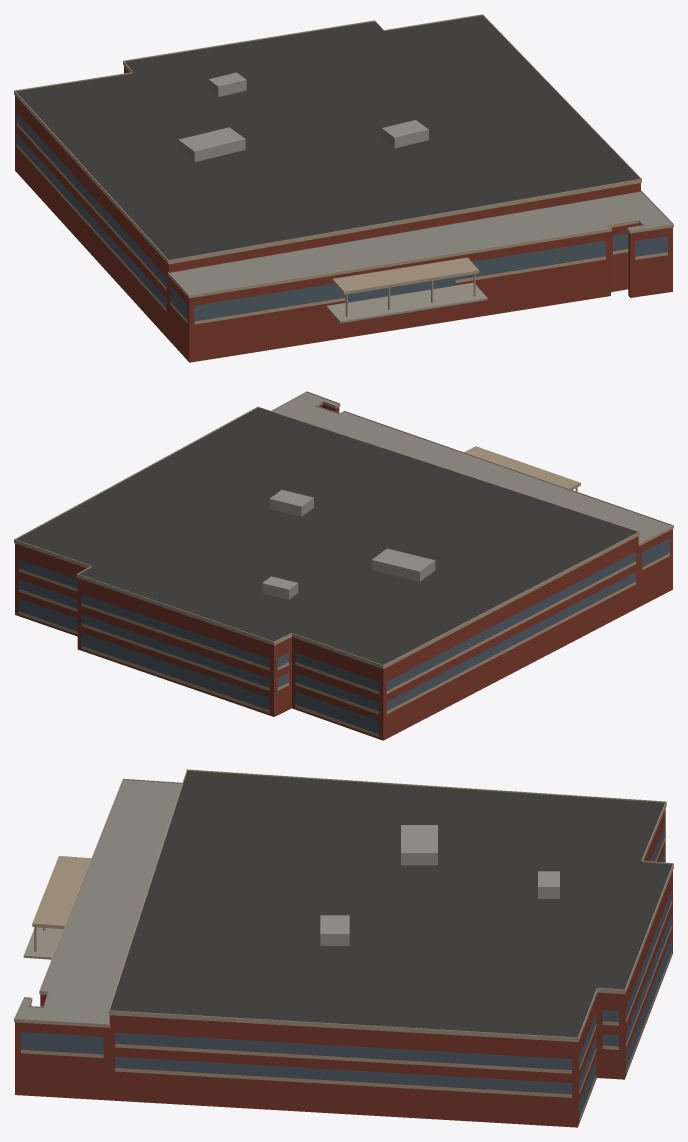
File: statehouse-convention-center.glb
The picture shows the model from 3 angles, top to bottom: view 1: azimuth 30°, elevation 25°; view 2: azimuth 150°, elevation 25°; view 3: azimuth 270°, elevation 25°; orthographic projection. The views are drawn at different scales.
Parts seen in each view (by area): view 1: statehouse_convention_center; view 2: statehouse_convention_center; view 3: statehouse_convention_center.
Boxes of the visible parts, x1,y1,x2,y2 form: statehouse_convention_center: (14,14,673,362); statehouse_convention_center: (14,391,673,740); statehouse_convention_center: (14,769,673,1127).
Size of the model in its own units: 87.33 by 15.1 by 89.28.
